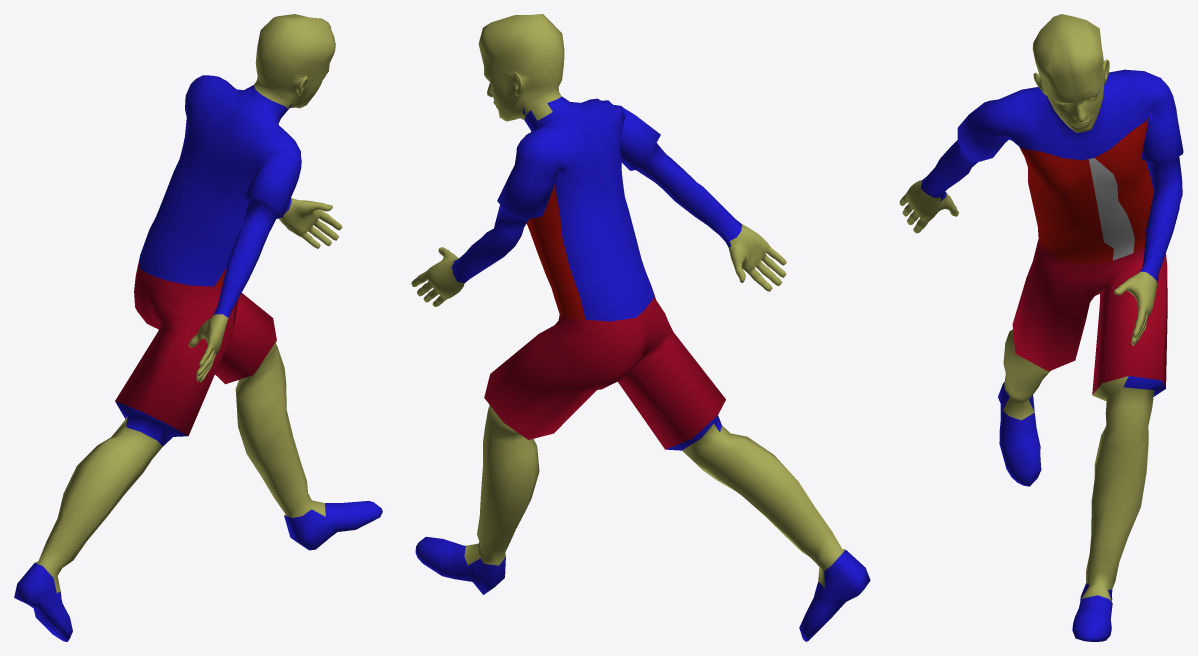
The model's file is player_000013.obj.
The picture shows the model from 3 angles, left to right: view 1: azimuth 30°, elevation 25°; view 2: azimuth 150°, elevation 25°; view 3: azimuth 270°, elevation 25°; orthographic projection. The views are drawn at different scales.
Parts seen in each view (by area): view 1: soccerplayer_mesh; view 2: soccerplayer_mesh; view 3: soccerplayer_mesh.
Boxes of the visible parts, x1,y1,x2,y2 form: soccerplayer_mesh: (14, 14, 382, 641); soccerplayer_mesh: (411, 14, 870, 641); soccerplayer_mesh: (899, 14, 1183, 641).
Size of the model in its own units: 3.68 by 4.89 by 2.1.
